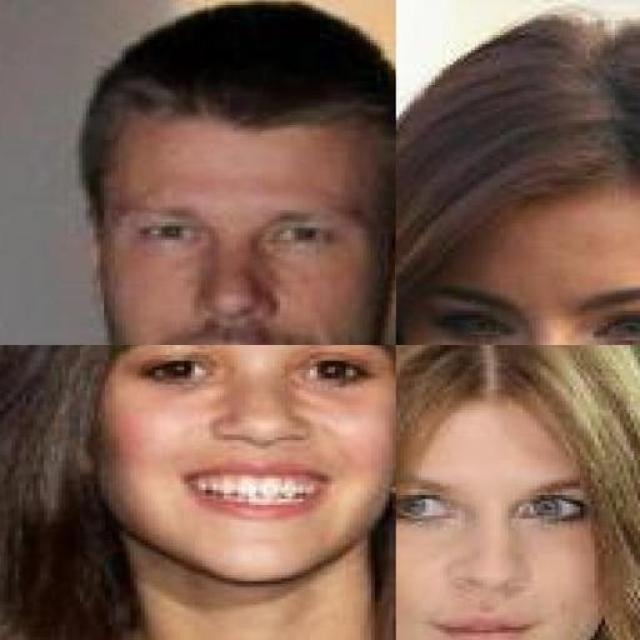bareface: (101, 24, 368, 354)
